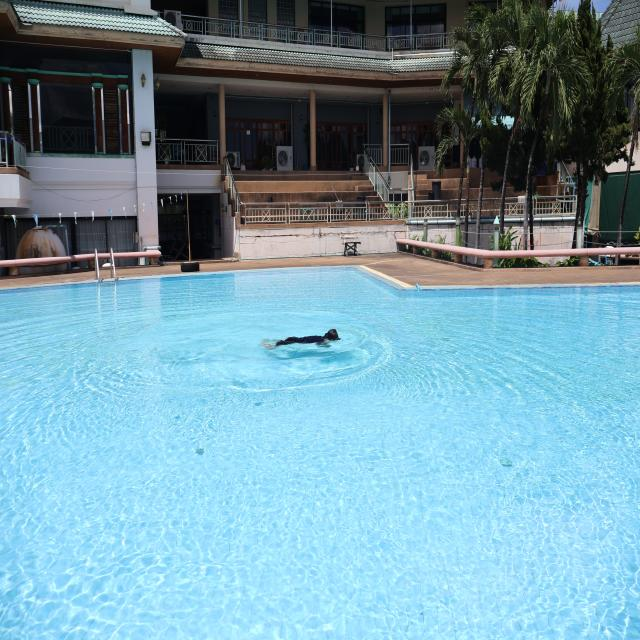Swimming: (256, 321, 343, 357)
